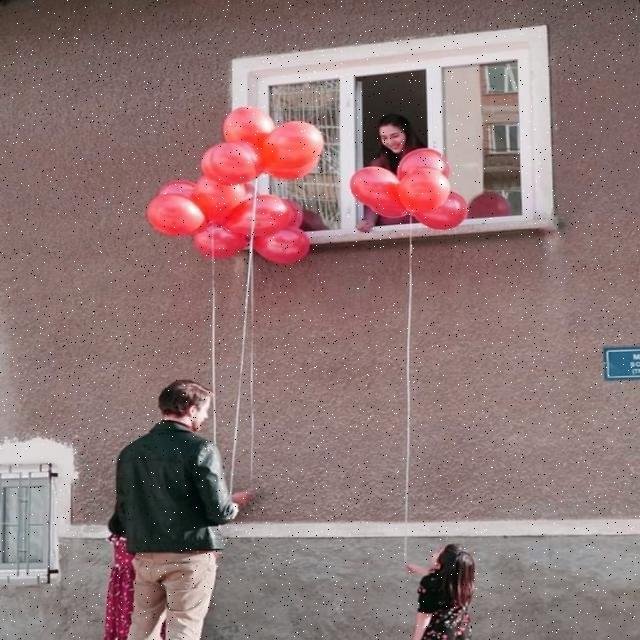red: (270, 115, 331, 180), (145, 187, 210, 244), (197, 141, 276, 183), (221, 101, 279, 157), (227, 193, 294, 239), (405, 164, 446, 222), (353, 168, 401, 209)
